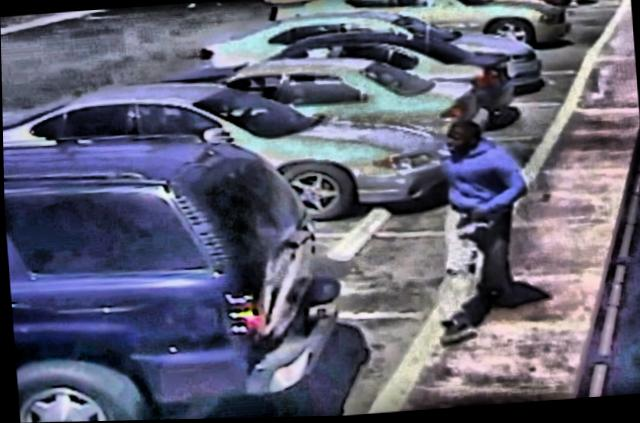pistol: (444, 207, 486, 232)
